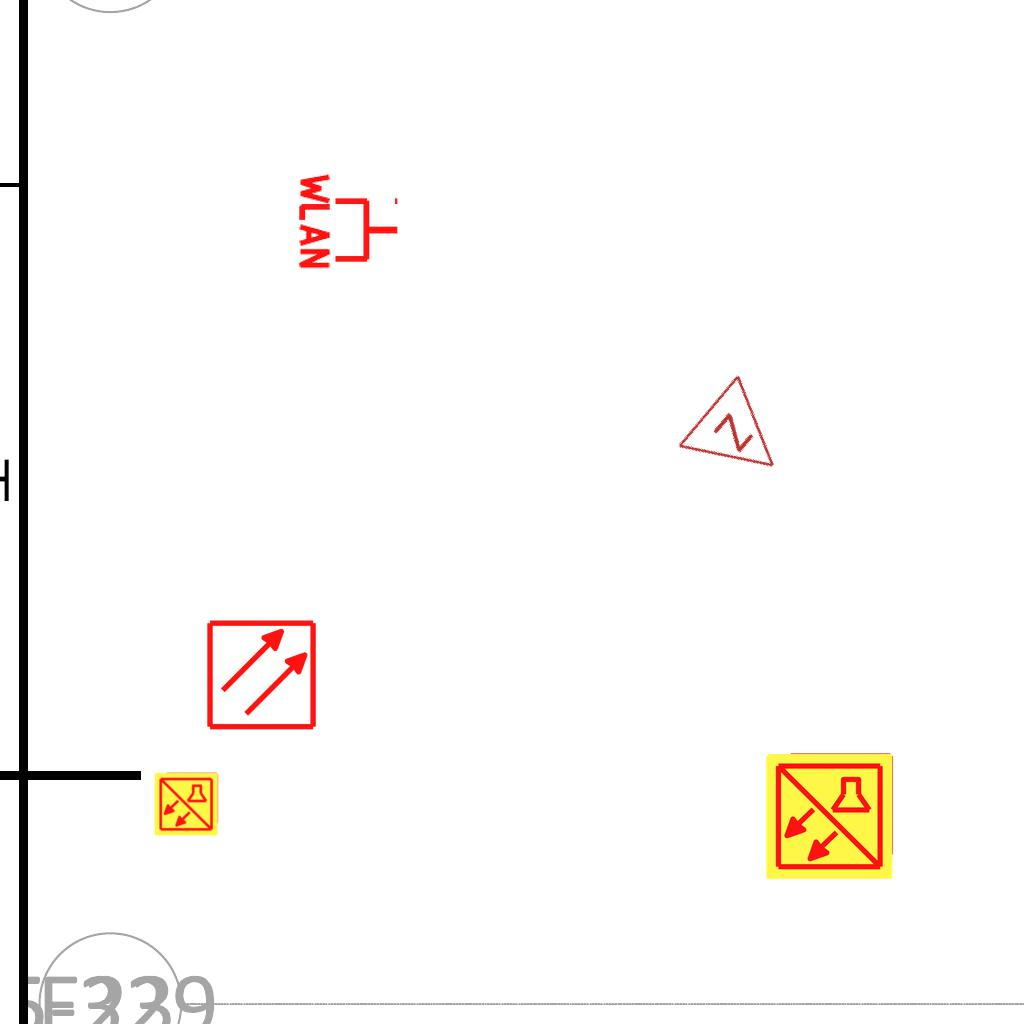OKW_Multisensormelder_(Kombination_optischer_Rauch-Kahlenmonoxid_Waerme-Melder): (763, 750, 895, 882), (153, 771, 219, 837)
RMO_Rauchmelder_optischer: (205, 618, 318, 731)
WLAN: (297, 169, 402, 273)
Zimmersignalleuchte: (671, 367, 811, 507)
